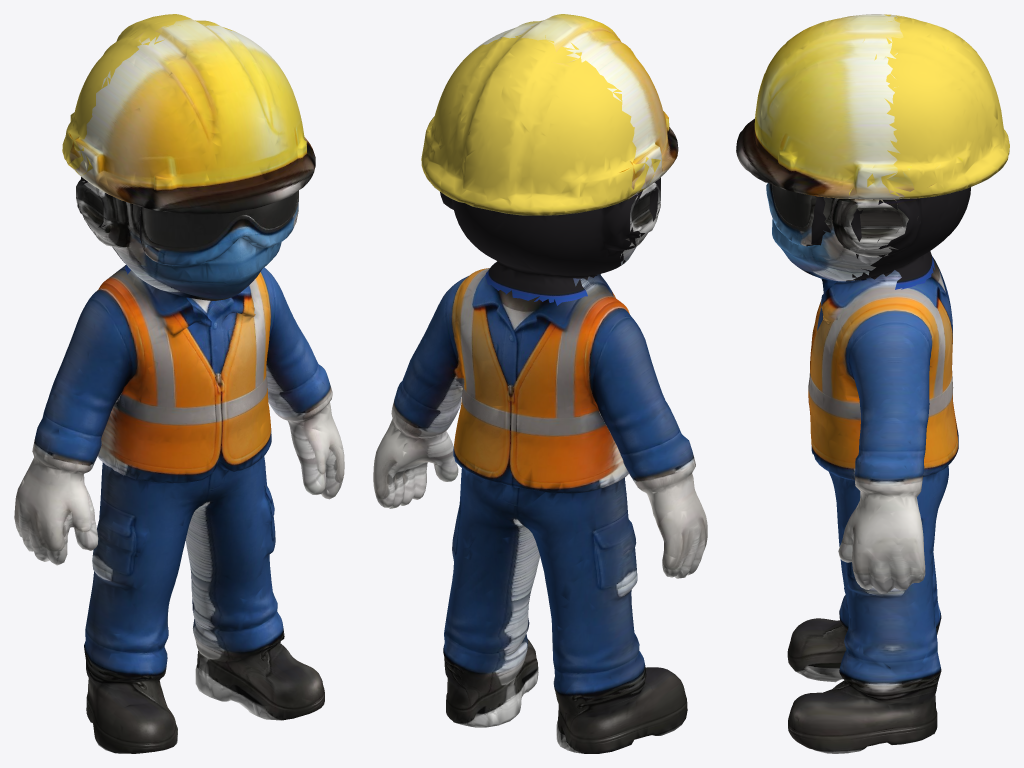
File: worker-male.glb
The picture shows the model from 3 angles, left to right: view 1: azimuth 30°, elevation 25°; view 2: azimuth 150°, elevation 25°; view 3: azimuth 270°, elevation 25°; orthographic projection.
Visible parts, largest first — view 1: geometry_0; view 2: geometry_0; view 3: geometry_0.
Boxes of the visible parts, box(x1,y1,x2,y2) form: geometry_0: box(14, 14, 344, 753); geometry_0: box(373, 14, 707, 753); geometry_0: box(736, 14, 1009, 753).
Size of the model in its own units: 0.9486 by 1.96 by 0.7143.
Materials: 1 (1 with a texture image).
